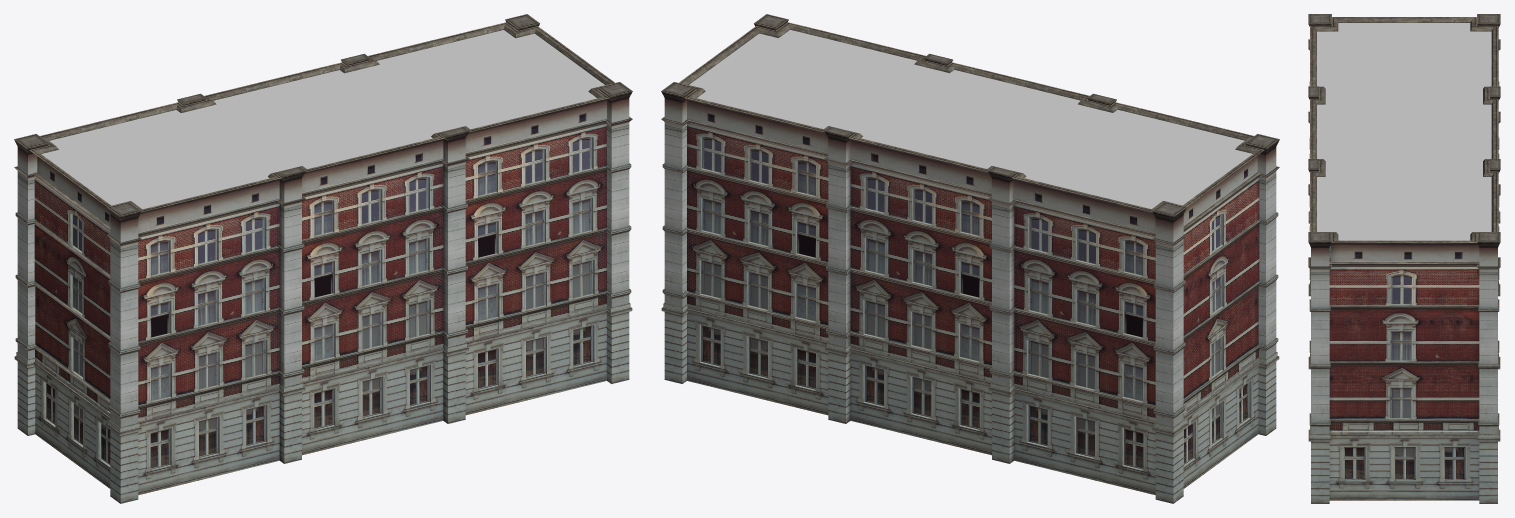
The model's file is Euro_v7_2.FBX.
3 views of the same model, side by side, from view 1: azimuth 30°, elevation 25°; view 2: azimuth 150°, elevation 25°; view 3: azimuth 270°, elevation 25° (orthographic). The views are drawn at different scales.
Visible parts, largest first — view 1: Euro_v7_2, Euro_v7_2_Roof_floor; view 2: Euro_v7_2, Euro_v7_2_Roof_floor; view 3: Euro_v7_2, Euro_v7_2_Roof_floor.
Boxes of the visible parts, x1=… form: Euro_v7_2: x1=14, y1=14, x2=632, y2=503; Euro_v7_2_Roof_floor: x1=41, y1=30, x2=604, y2=209; Euro_v7_2: x1=661, y1=14, x2=1279, y2=503; Euro_v7_2_Roof_floor: x1=689, y1=29, x2=1252, y2=208; Euro_v7_2: x1=1308, y1=14, x2=1500, y2=503; Euro_v7_2_Roof_floor: x1=1317, y1=23, x2=1491, y2=240.
Bounding box in the file's own units: 35.35 × 19.02 × 12.59.
